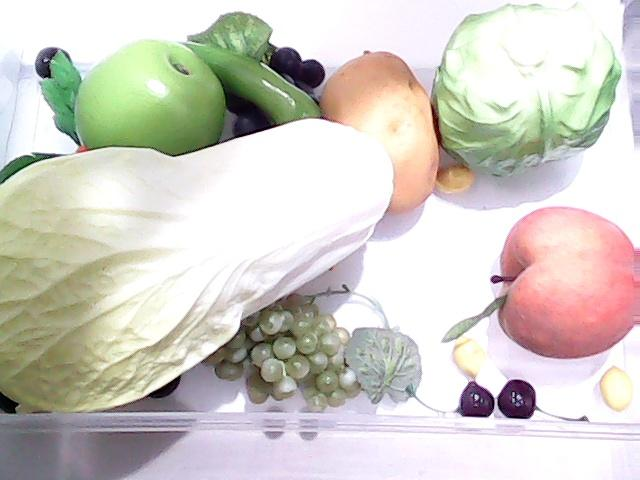apple: (66, 29, 232, 174)
cabbage: (429, 1, 623, 184)
carrot: (0, 50, 88, 186)
grape: (195, 289, 358, 415), (187, 10, 325, 95)
napa cabbage: (0, 123, 392, 420)
peach: (491, 205, 640, 361)
pepper: (170, 31, 338, 126)
potato: (321, 51, 439, 219)
